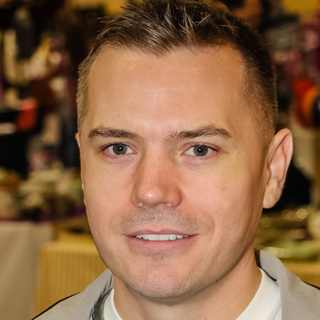eye: (176, 139, 224, 164), (96, 139, 140, 164)
